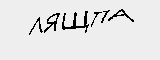А: (108, 7, 135, 24)
Л: (27, 13, 46, 34)
П: (90, 8, 108, 26)
Щ: (64, 10, 89, 31)
Я: (44, 9, 60, 36)
